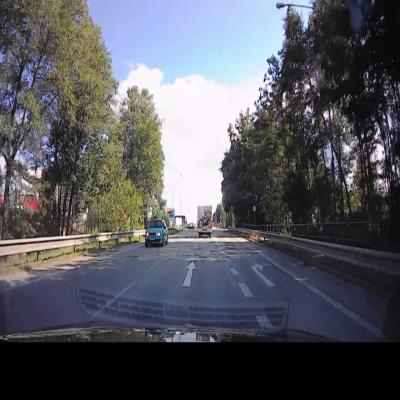clear-road: (77, 244, 293, 303)
